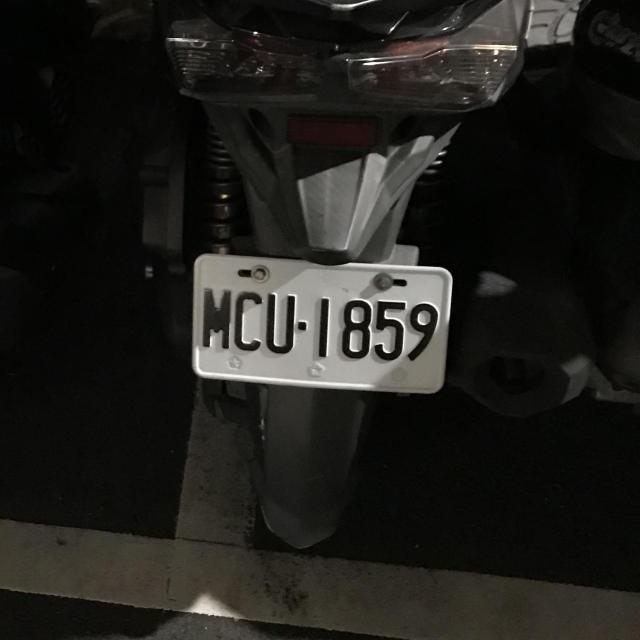W: (182, 246, 456, 398)
